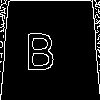B: (25, 25, 56, 70)
